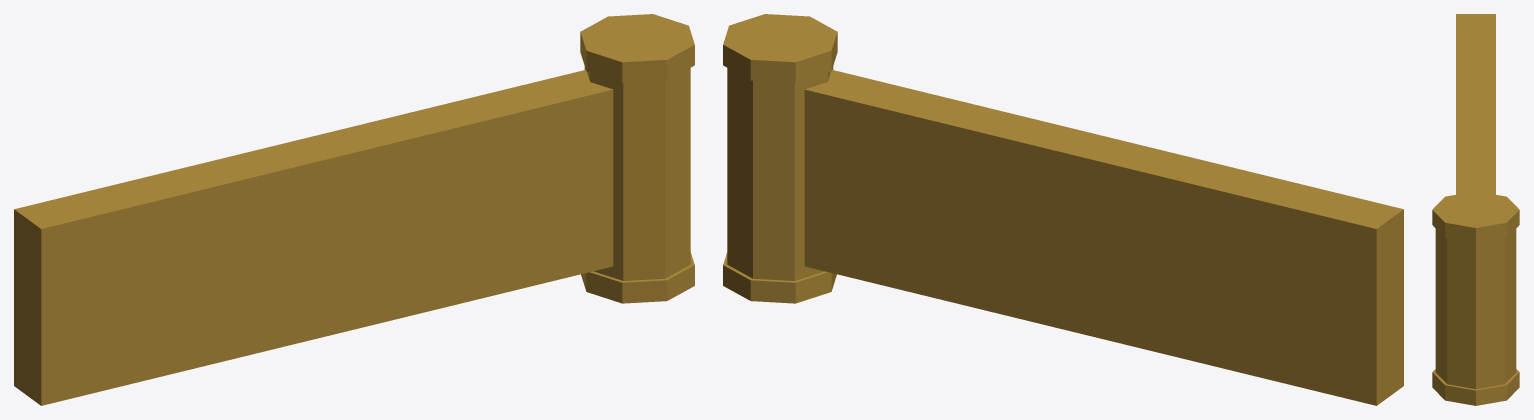
File: SM_Veh_Crane_01_Leg_fl.obj
The picture shows the model from 3 angles, left to right: view 1: azimuth 30°, elevation 25°; view 2: azimuth 150°, elevation 25°; view 3: azimuth 270°, elevation 25°; orthographic projection. The views are drawn at different scales.
Parts seen in each view (by area): view 1: SM_Veh_Crane_01_Leg_fl_0; view 2: SM_Veh_Crane_01_Leg_fl_0; view 3: SM_Veh_Crane_01_Leg_fl_0.
Part boxes in pixels (x1,y1,x2,y2): SM_Veh_Crane_01_Leg_fl_0: [14, 14, 694, 405]; SM_Veh_Crane_01_Leg_fl_0: [723, 14, 1403, 405]; SM_Veh_Crane_01_Leg_fl_0: [1432, 14, 1519, 405].
Bounding box in the file's own units: 1.33 × 0.4644 × 0.2065.
1 material, 1 textured.
